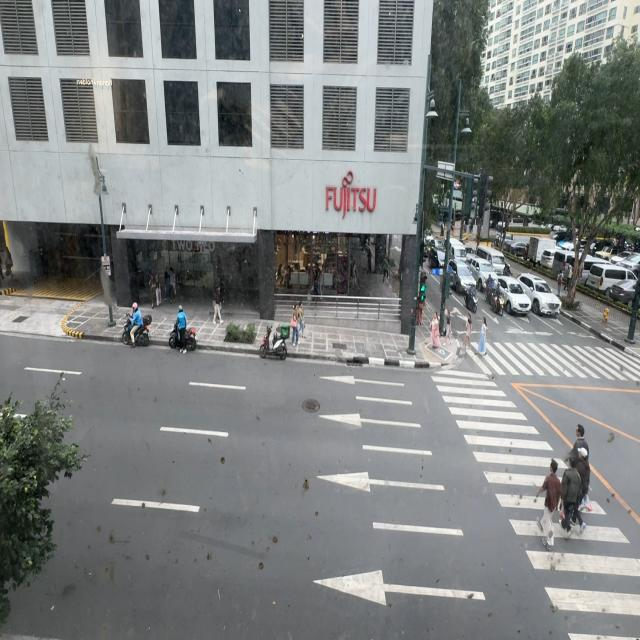crossing: (536, 457, 562, 551), (559, 456, 583, 536), (575, 444, 596, 514), (429, 312, 442, 352), (478, 310, 488, 360), (462, 311, 473, 351), (571, 424, 589, 448), (444, 310, 454, 346)
pedestrain: (0, 243, 19, 295), (145, 271, 162, 310), (212, 285, 224, 326), (297, 301, 305, 340), (562, 262, 570, 290), (567, 263, 573, 290), (557, 270, 562, 298)
